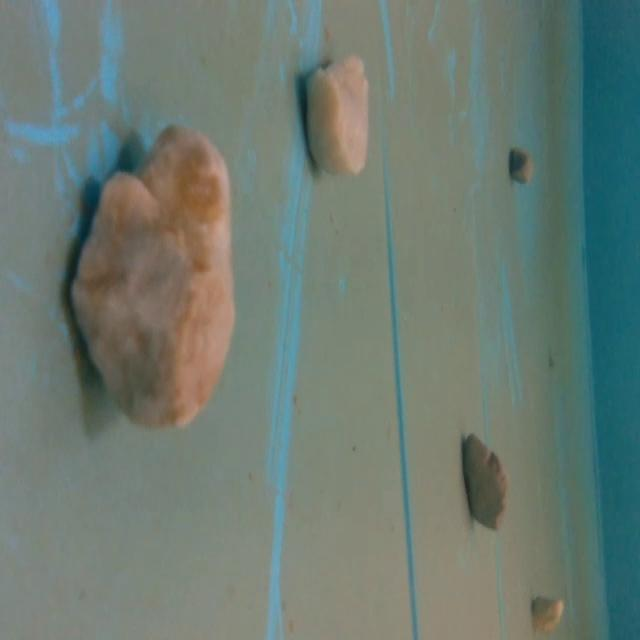rock: (61, 116, 246, 444), (294, 49, 373, 186), (457, 426, 513, 530), (527, 590, 567, 636), (502, 142, 536, 188)
